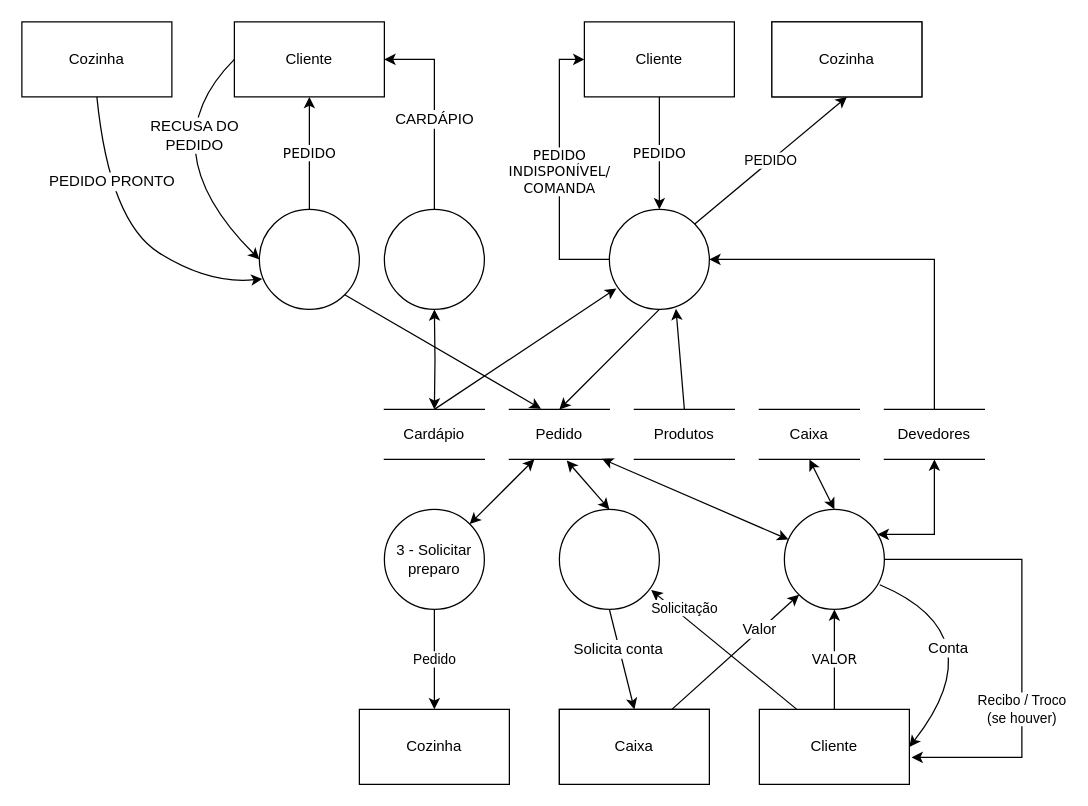
This 1088x806 diagram has some shape labels left out. The centre of each missing label's shape, as x and y in pixels:
"1 - Entregar Cardápio" belongs at (433,258).
"2 - Anotar Pedido" belongs at (658,258).
"4 - Entregar pedido" belongs at (308,258).
"5 - Solicitar valor total" belongs at (608,558).
"6 - Receber pagamento" belongs at (833,558).
